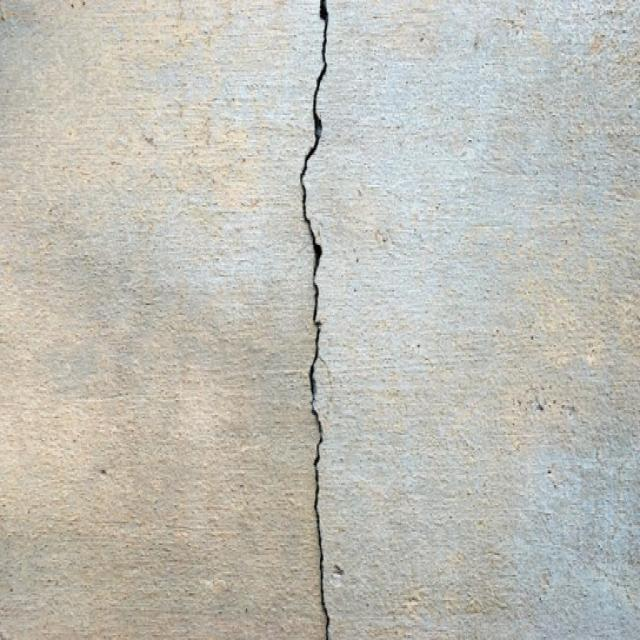Longitudinal: (292, 0, 334, 640)
